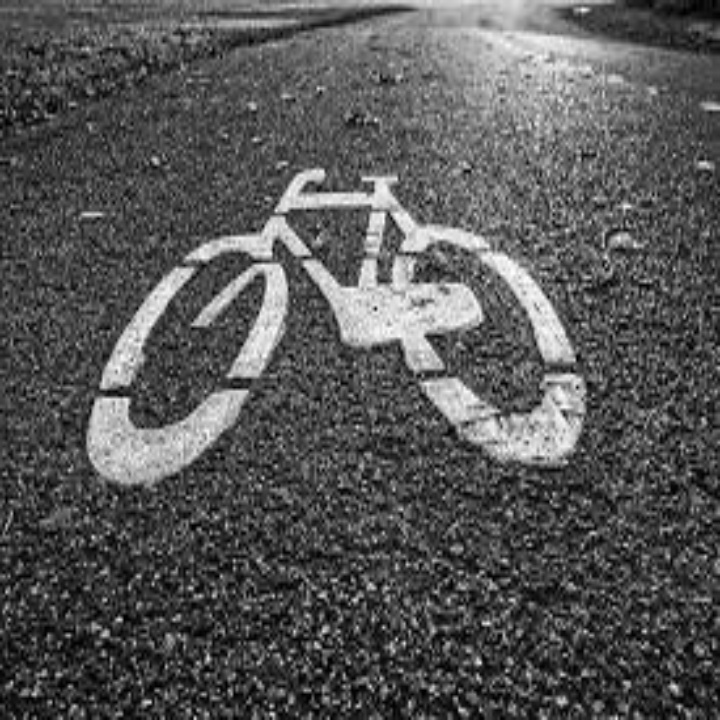bicycle: (313, 165, 445, 297), (299, 399, 379, 479)
